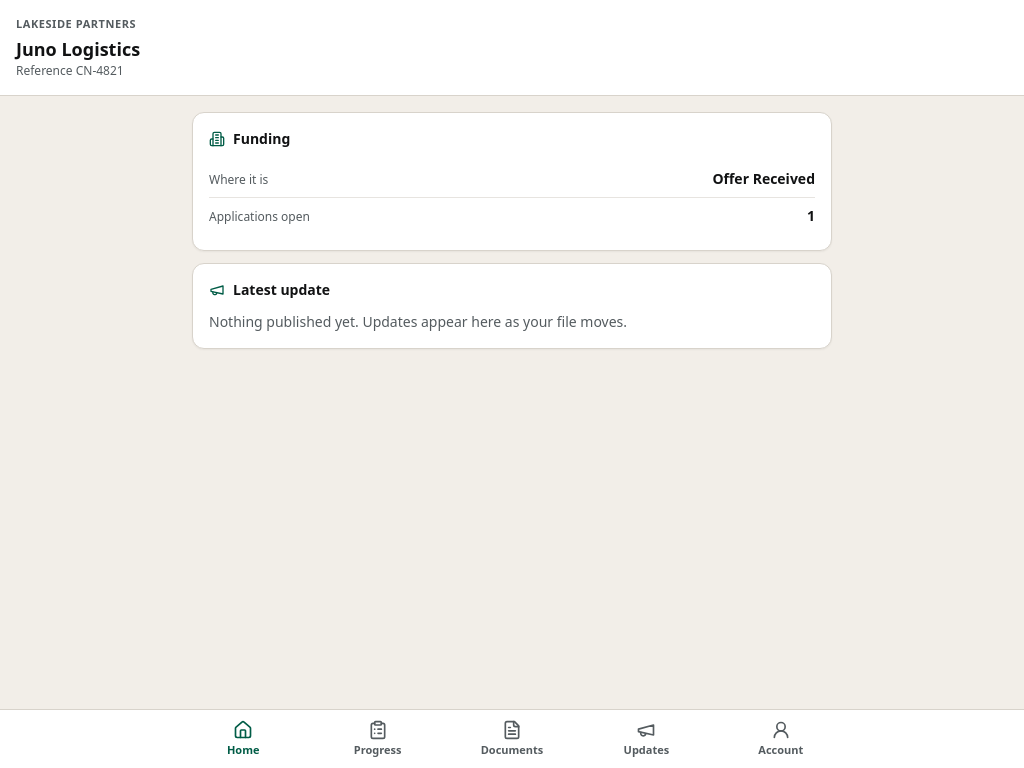
offers › shows only what was put in front of them
This screenshot has width=1024, height=768.
Click the button "Progress" at {"x": 378, "y": 739}, box [310,710,445,767]
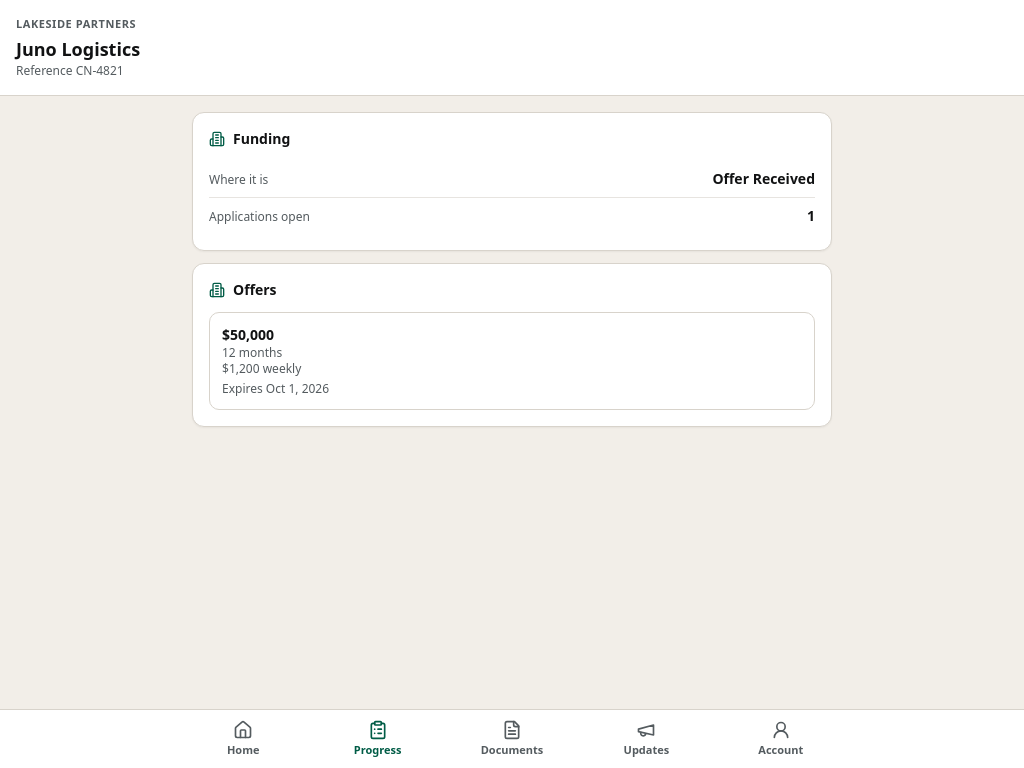
Expected: the text "$50,000" is shown, [222,324,274,344]
Expected: the text "12 months" is shown, [222,344,282,360]
